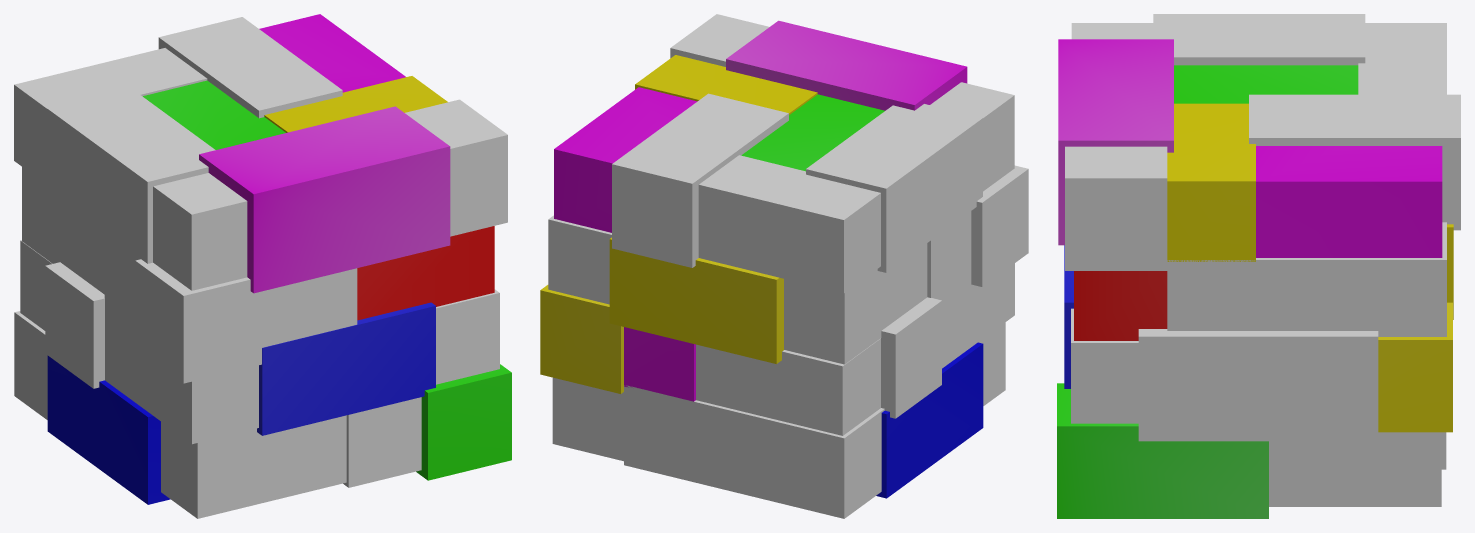
Rendered from Block1.fbx.
The picture shows the model from 3 angles, left to right: view 1: azimuth 30°, elevation 25°; view 2: azimuth 150°, elevation 25°; view 3: azimuth 270°, elevation 25°; orthographic projection. The views are drawn at different scales.
Parts seen in each view (by area): view 1: Block1.005_low, Block1.009_low, Block1.002_low, Block1.026_low, Block1.028_low, Block1.020_low, Block1.027_low, Block1.014_low, Block1.001_low, Block1.018_low, Block1.010_low, Block1.007_low (+11 smaller); view 2: Block1.024_low, Block1.010_low, Block1.009_low, Block1.014_low, Block1.004_low, Block1.005_low, Block1.033_low, Block1.011_low, Block1.016_low, Block1.020_low, Block1.022_low, Block1.031_low (+11 smaller); view 3: Block1.021_low, Block1.016_low, Block1.008_low, Block1.018_low, Block1_low, Block1.005_low, Block1.006_low, Block1.014_low, Block1.023_low, Block1.009_low, Block1.022_low, Block1.007_low (+6 smaller).
Part boxes in pixels (x1,y1,x2,y2): Block1.005_low: [199, 106, 450, 293]; Block1.009_low: [47, 88, 215, 263]; Block1.002_low: [135, 259, 357, 383]; Block1.026_low: [257, 302, 435, 435]; Block1.028_low: [161, 415, 346, 518]; Block1.020_low: [47, 355, 170, 504]; Block1.027_low: [105, 309, 258, 444]; Block1.014_low: [158, 17, 342, 118]; Block1.001_low: [153, 173, 247, 290]; Block1.018_low: [416, 364, 511, 480]; Block1.010_low: [14, 48, 207, 184]; Block1.007_low: [357, 226, 494, 320]; Block1.024_low: [624, 385, 884, 518]; Block1.010_low: [698, 155, 880, 293]; Block1.009_low: [806, 104, 982, 272]; Block1.014_low: [612, 93, 788, 267]; Block1.004_low: [609, 237, 783, 363]; Block1.005_low: [726, 20, 967, 110]; Block1.033_low: [696, 338, 880, 435]; Block1.011_low: [784, 243, 927, 364]; Block1.016_low: [554, 87, 697, 232]; Block1.020_low: [876, 342, 983, 498]; Block1.022_low: [540, 285, 623, 393]; Block1.031_low: [881, 297, 941, 418]; Block1.021_low: [1138, 329, 1378, 441]; Block1.016_low: [1256, 146, 1442, 257]; Block1.008_low: [1167, 222, 1446, 336]; Block1.018_low: [1057, 383, 1268, 518]; Block1_low: [1167, 103, 1255, 261]; Block1.005_low: [1058, 39, 1173, 245]; Block1.006_low: [1065, 146, 1167, 270]; Block1.014_low: [1249, 94, 1460, 230]; Block1.023_low: [1269, 432, 1441, 506]; Block1.009_low: [1153, 14, 1365, 65]; Block1.022_low: [1378, 302, 1452, 432]; Block1.007_low: [1074, 271, 1167, 340].
Bounding box in the file's own units: 1.05 × 1 × 1.06.
